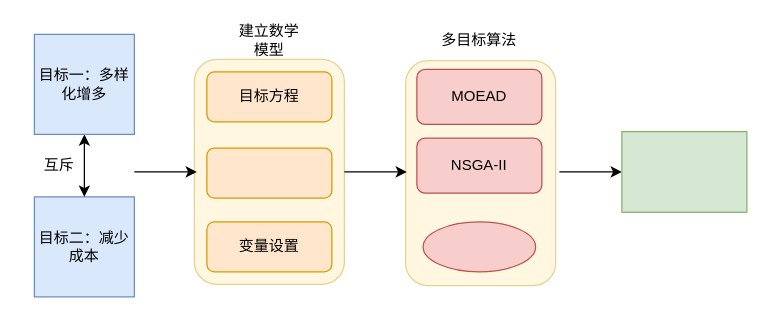
This 769x319 diagram has some shape labels left out. Each missing label, with the box of its shape:
算子+全局替换: (422, 221, 536, 272)
约束条件: (206, 147, 332, 198)
调参 逼近帕累托前沿: (621, 130, 747, 212)
